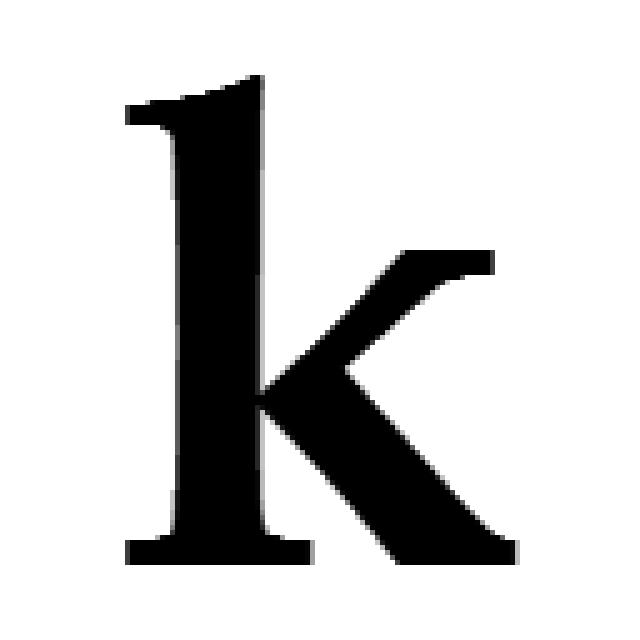K: (109, 84, 521, 572)
